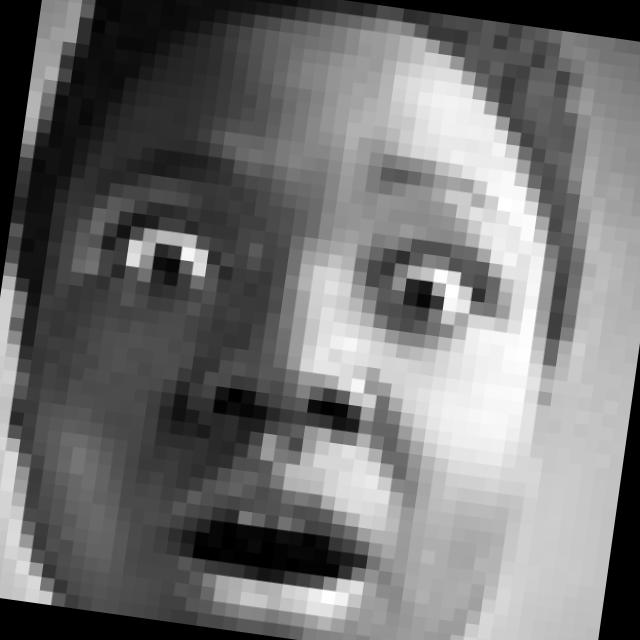surprise: (18, 103, 543, 640)
